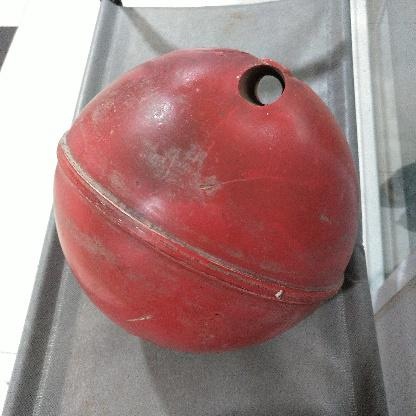red_buoy: (52, 46, 361, 356)
